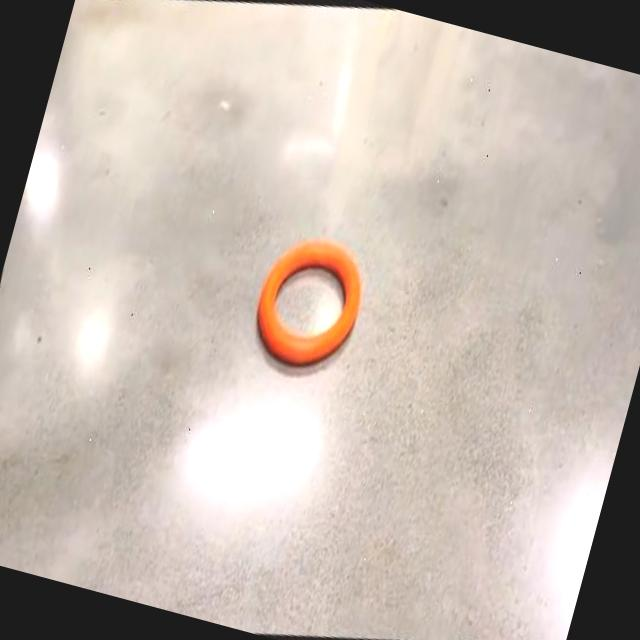note: (258, 239, 360, 362)
